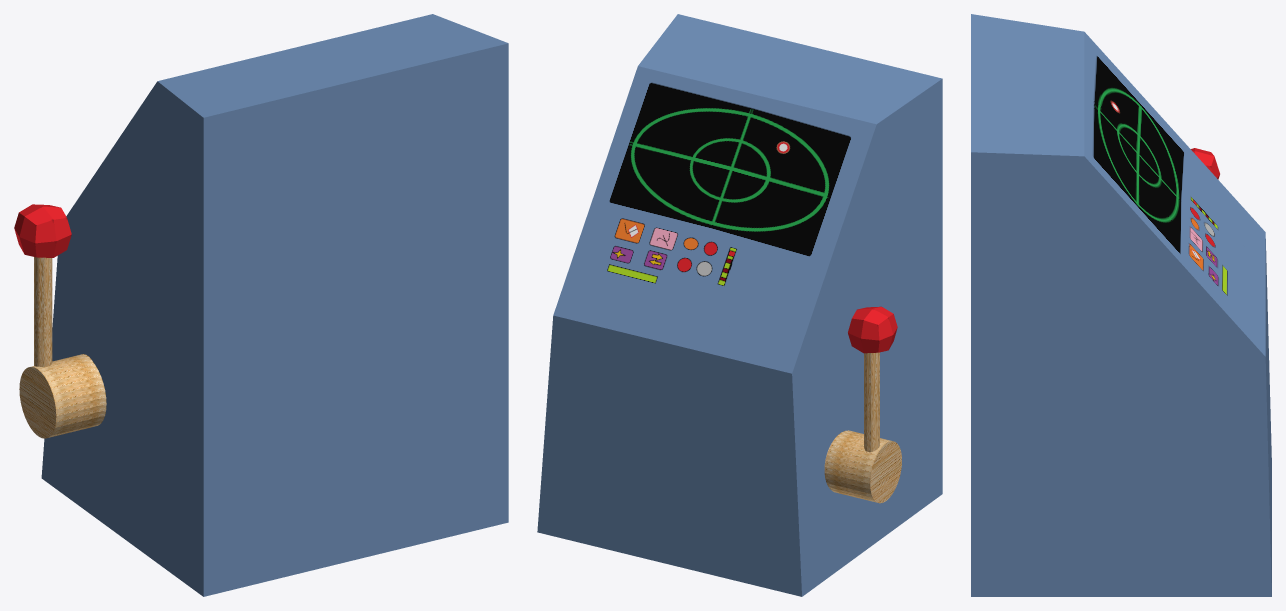
File: binnenkant fabriek.obj
The picture shows the model from 3 angles, left to right: view 1: azimuth 30°, elevation 25°; view 2: azimuth 150°, elevation 25°; view 3: azimuth 270°, elevation 25°; orthographic projection. The views are drawn at different scales.
Parts seen in each view (by area): view 1: Cube.013; view 2: Cube.013; view 3: Cube.013.
Boxes of the visible parts, x1,y1,x2,y2 form: Cube.013: (14, 14, 508, 596); Cube.013: (537, 14, 942, 596); Cube.013: (971, 14, 1271, 596).
Bounding box in the file's own units: 4.83 × 6 × 3.68.
